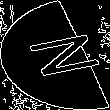N_E: (10, 29, 100, 81)
